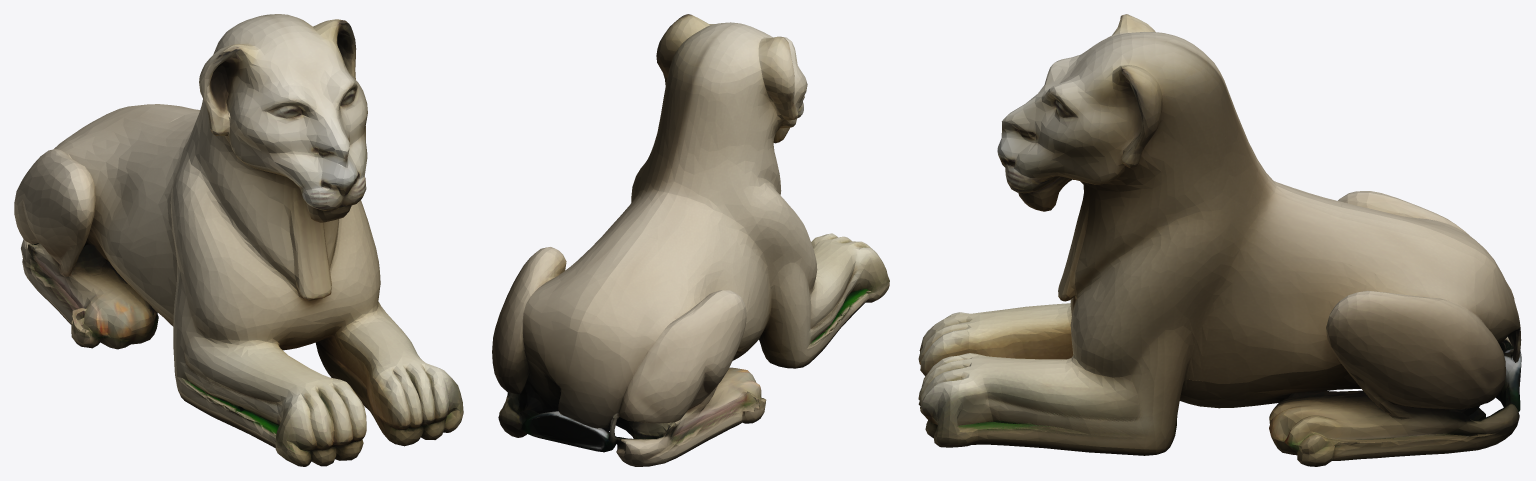
File: vox.glb
3 renders of one model, left to right at view 1: azimuth 30°, elevation 25°; view 2: azimuth 150°, elevation 25°; view 3: azimuth 270°, elevation 25°, orthographic. The views are drawn at different scales.
Visible parts, largest first — view 1: world; view 2: world; view 3: world.
Boxes of the visible parts, left/top/right/bottom form: world: left=14, top=14, right=463, bottom=466; world: left=492, top=14, right=889, bottom=466; world: left=918, top=14, right=1521, bottom=466.
Size of the model in its own units: 0.49 by 0.6808 by 1.
1 material, 1 textured.
